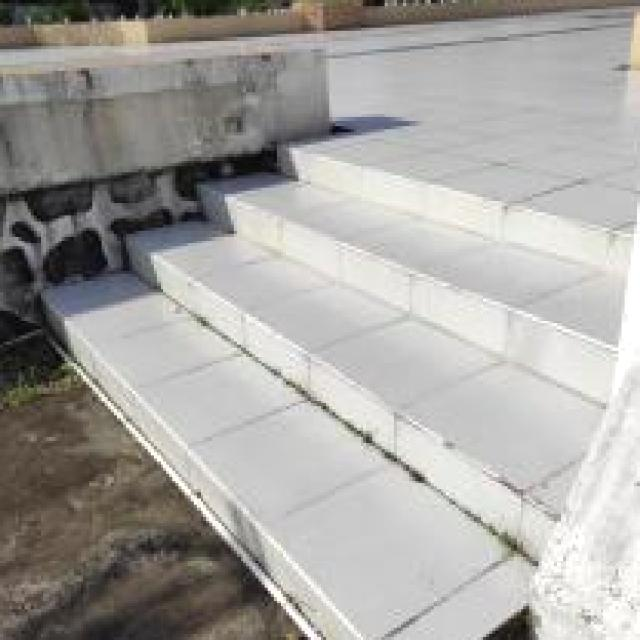downstair: (38, 142, 640, 640)
